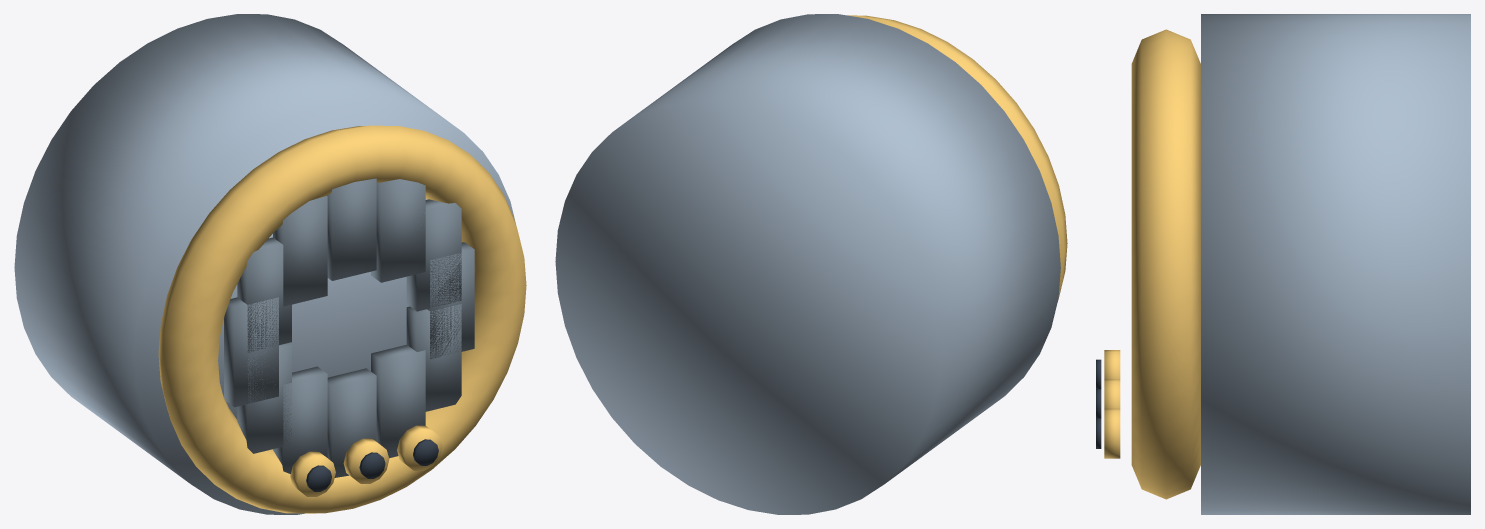
Rendered from 18_L89_ParticleCollimatorHead.glb.
3 renders of one model, left to right at view 1: azimuth 30°, elevation 25°; view 2: azimuth 150°, elevation 25°; view 3: azimuth 270°, elevation 25°, orthographic. The views are drawn at different scales.
Parts seen in each view (by area): view 1: L87_ParticleCollimatorHead_Part_0000, L87_ParticleCollimatorHead_Part_0001, L87_ParticleCollimatorHead_Part_0002, L87_ParticleCollimatorHead_Part_0003, L87_ParticleCollimatorHead_Part_0007, L87_ParticleCollimatorHead_Part_0005; view 2: L87_ParticleCollimatorHead_Part_0000, L87_ParticleCollimatorHead_Part_0001; view 3: L87_ParticleCollimatorHead_Part_0000, L87_ParticleCollimatorHead_Part_0001, L87_ParticleCollimatorHead_Part_0007, L87_ParticleCollimatorHead_Part_0005, L87_ParticleCollimatorHead_Part_0003.
Boxes of the visible parts, x1=… form: L87_ParticleCollimatorHead_Part_0000: x1=14, y1=14, x2=514, y2=514; L87_ParticleCollimatorHead_Part_0001: x1=158, y1=125, x2=526, y2=513; L87_ParticleCollimatorHead_Part_0002: x1=224, y1=178, x2=474, y2=477; L87_ParticleCollimatorHead_Part_0003: x1=290, y1=451, x2=335, y2=497; L87_ParticleCollimatorHead_Part_0007: x1=397, y1=425, x2=442, y2=470; L87_ParticleCollimatorHead_Part_0005: x1=343, y1=438, x2=389, y2=483; L87_ParticleCollimatorHead_Part_0000: x1=555, y1=14, x2=1060, y2=514; L87_ParticleCollimatorHead_Part_0001: x1=847, y1=15, x2=1067, y2=300; L87_ParticleCollimatorHead_Part_0000: x1=1201, y1=14, x2=1470, y2=514; L87_ParticleCollimatorHead_Part_0001: x1=1131, y1=29, x2=1200, y2=499; L87_ParticleCollimatorHead_Part_0007: x1=1104, y1=408, x2=1120, y2=458; L87_ParticleCollimatorHead_Part_0005: x1=1104, y1=379, x2=1120, y2=408; L87_ParticleCollimatorHead_Part_0003: x1=1104, y1=350, x2=1120, y2=379.
Size of the model in its own units: 1.3 by 1.3 by 0.972.
